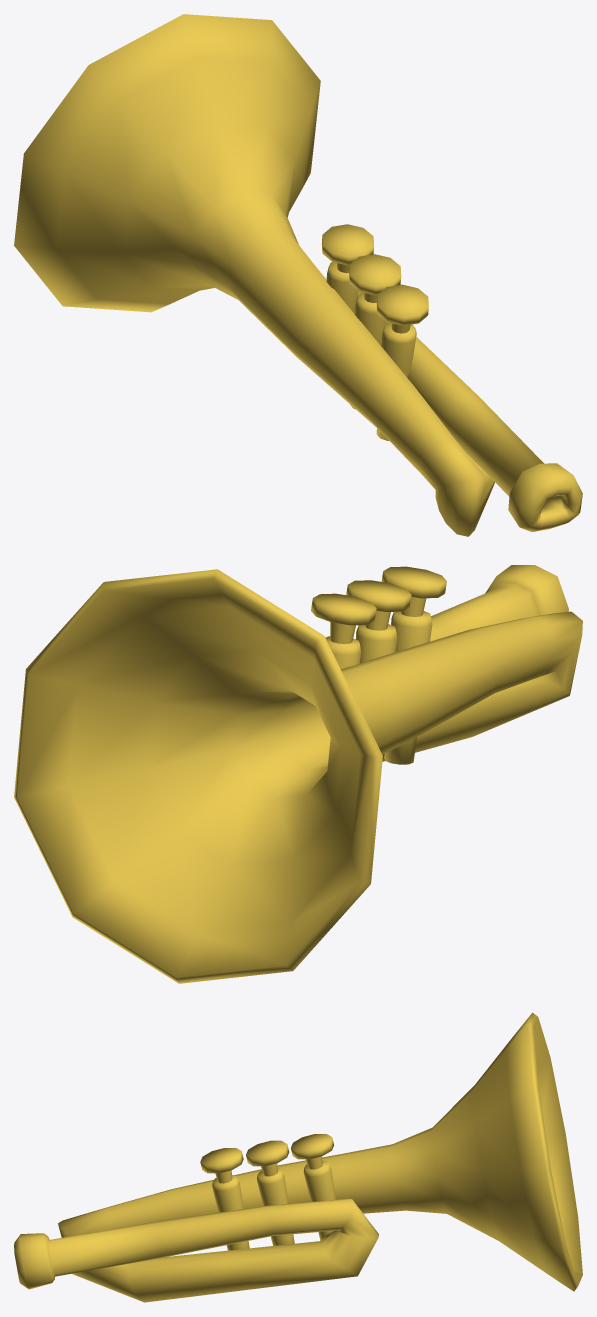
The model's file is props_trumpet.fbx.
3 views of the same model, one above another, from view 1: azimuth 30°, elevation 25°; view 2: azimuth 150°, elevation 25°; view 3: azimuth 270°, elevation 25° (orthographic). The views are drawn at different scales.
Parts seen in each view (by area): view 1: Cylinder; view 2: Cylinder; view 3: Cylinder.
Boxes of the visible parts, bbox=[...] form: Cylinder: bbox=[14, 14, 582, 536]; Cylinder: bbox=[14, 565, 582, 983]; Cylinder: bbox=[14, 1012, 582, 1302].
Size of the model in its own units: 0.5328 by 1.11 by 0.5541.
